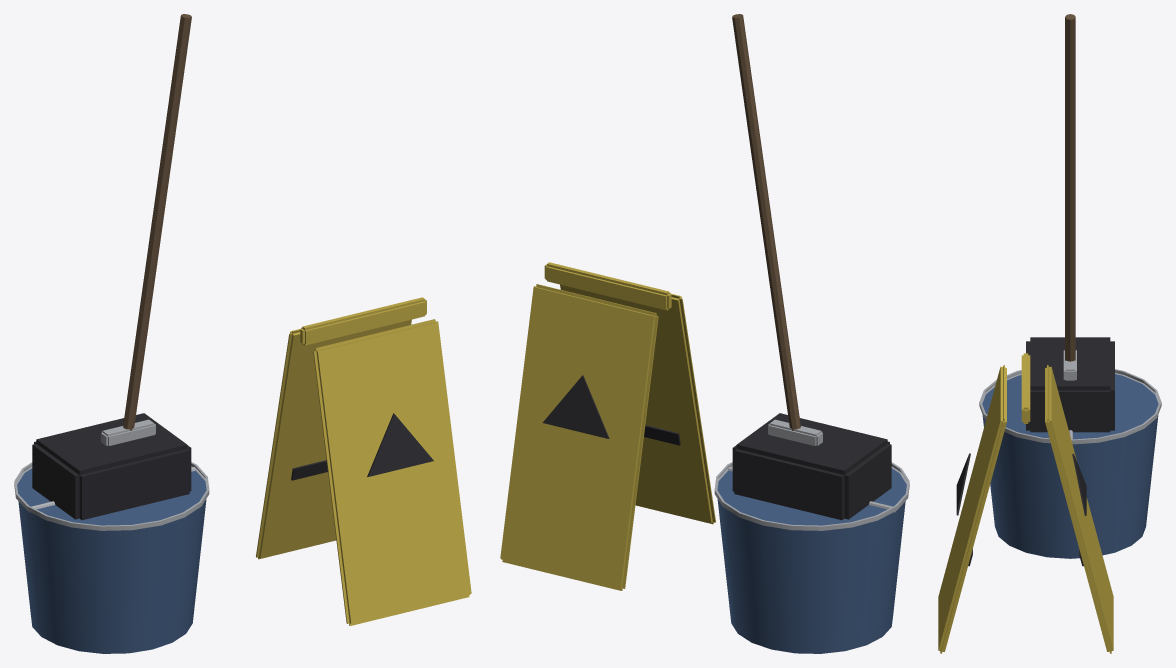
The model's file is mop_wet_sign.glb.
3 views of the same model, side by side, from view 1: azimuth 30°, elevation 25°; view 2: azimuth 150°, elevation 25°; view 3: azimuth 270°, elevation 25° (orthographic). The views are drawn at different scales.
Visible parts, largest first — view 1: sign_mesh, bucket_mesh, mop_mesh; view 2: sign_mesh, bucket_mesh, mop_mesh; view 3: bucket_mesh, sign_mesh, mop_mesh.
Part boxes in pixels (x1,y1,x2,y2): sign_mesh: (256, 297, 471, 625); bucket_mesh: (14, 413, 209, 653); mop_mesh: (101, 14, 191, 445); sign_mesh: (500, 262, 715, 590); bucket_mesh: (714, 413, 909, 653); mop_mesh: (732, 14, 822, 445); bucket_mesh: (979, 337, 1161, 558); sign_mesh: (938, 353, 1113, 653); mop_mesh: (1063, 14, 1076, 380).
Size of what is drawn, in the model's own units: 0.905 by 1.35 by 0.5022.
